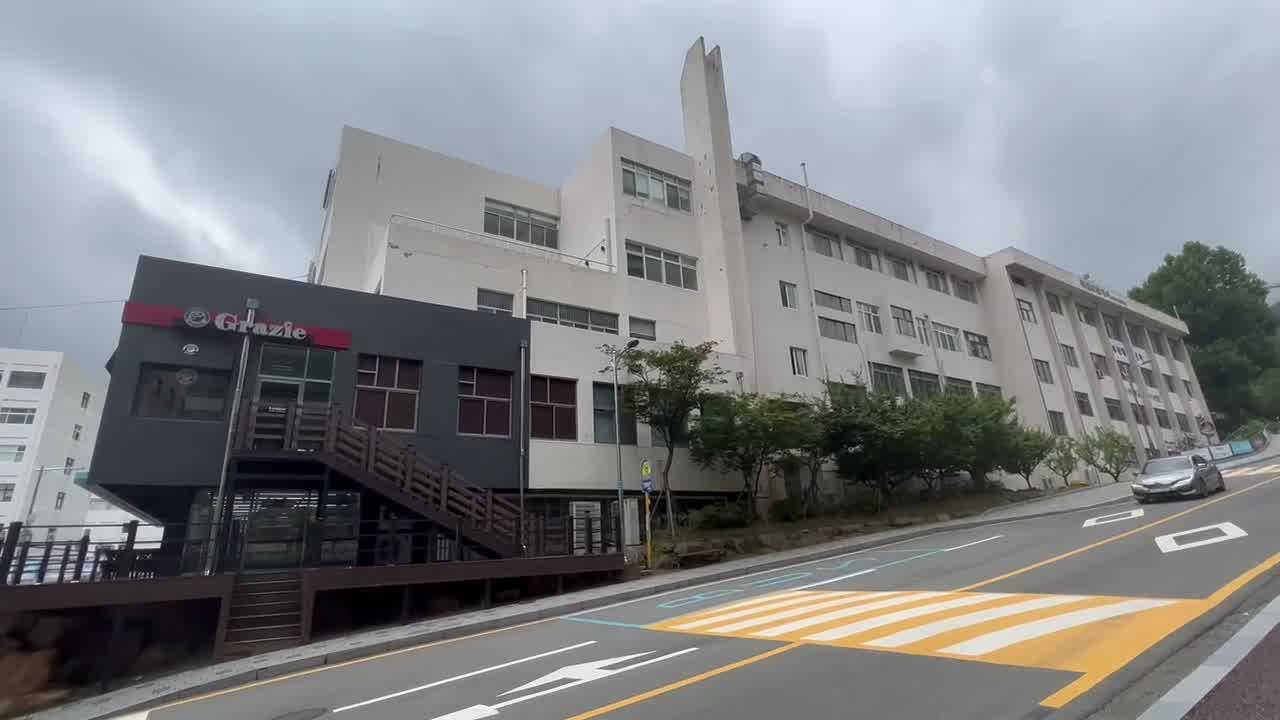building: (107, 107, 624, 569)
